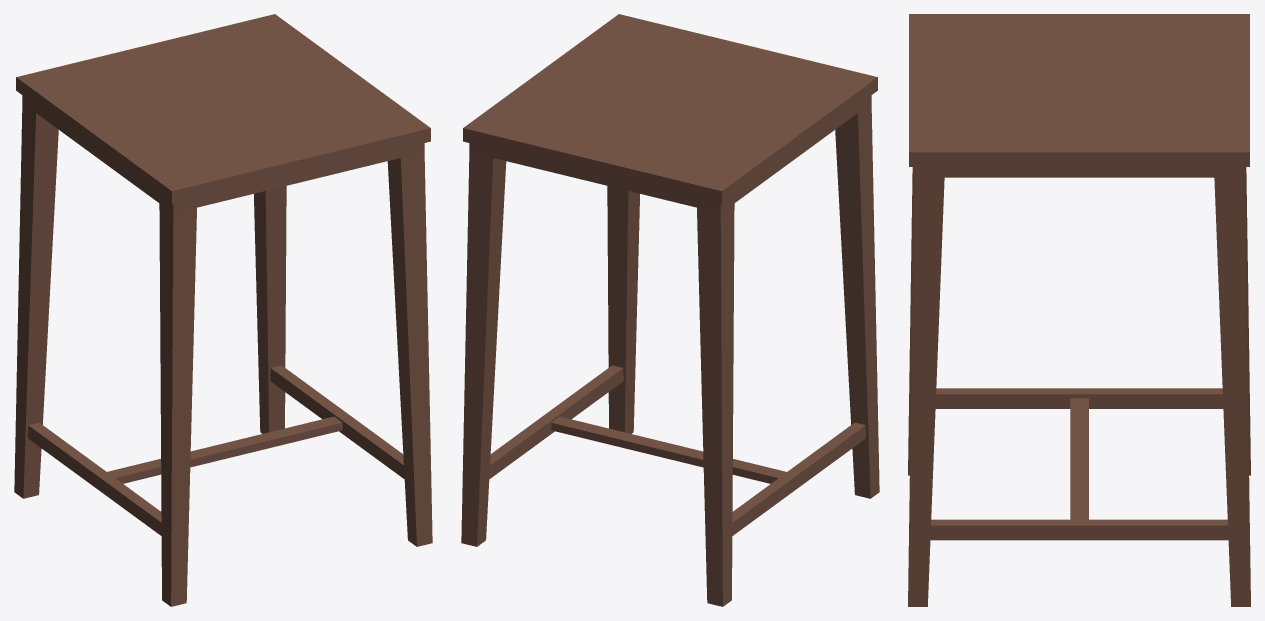
Rendered from stool-by-zoe-xr-1fSHxCFglQP.glb.
The picture shows the model from 3 angles, left to right: view 1: azimuth 30°, elevation 25°; view 2: azimuth 150°, elevation 25°; view 3: azimuth 270°, elevation 25°; orthographic projection. The views are drawn at different scales.
Visible parts, largest first — view 1: group413050197; view 2: group413050197; view 3: group413050197.
Boxes of the visible parts, box(x1,y1,x2,y2) form: group413050197: box(14, 14, 432, 606); group413050197: box(461, 14, 879, 606); group413050197: box(908, 14, 1250, 606).
Size of the model in its own units: 1.42 by 2.16 by 1.48.
